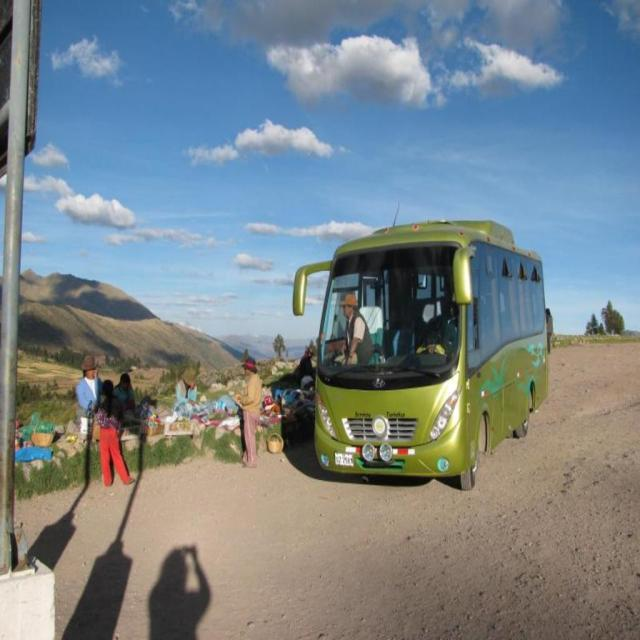Buses: (294, 219, 550, 493)
Pedestrians: (90, 381, 137, 488), (238, 352, 264, 471)
